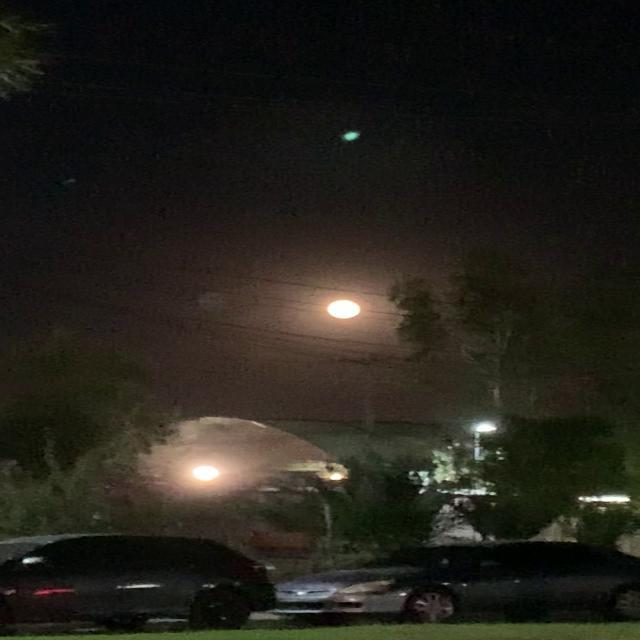moon: (328, 300, 370, 324)
